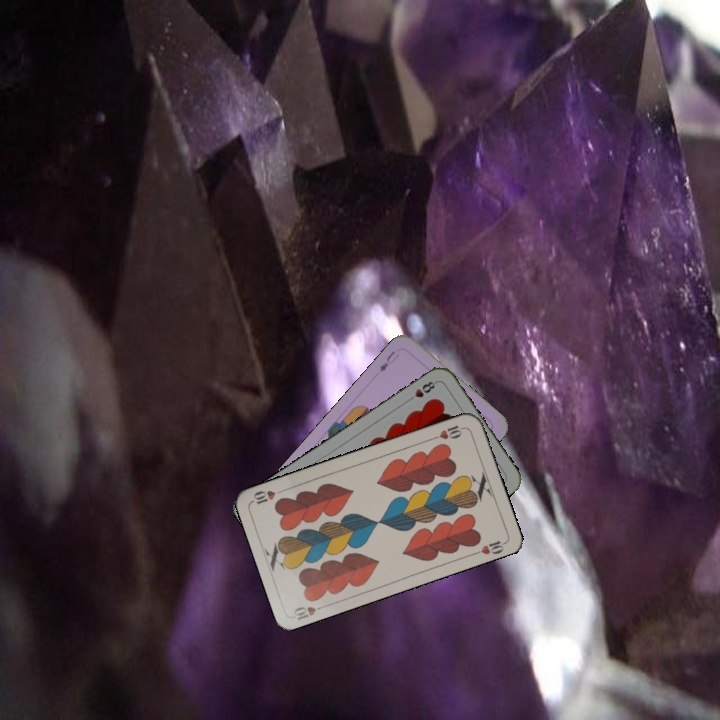EU: (375, 347, 401, 375)
H10: (428, 420, 467, 443), (290, 601, 329, 623)
H8: (403, 377, 440, 404)
